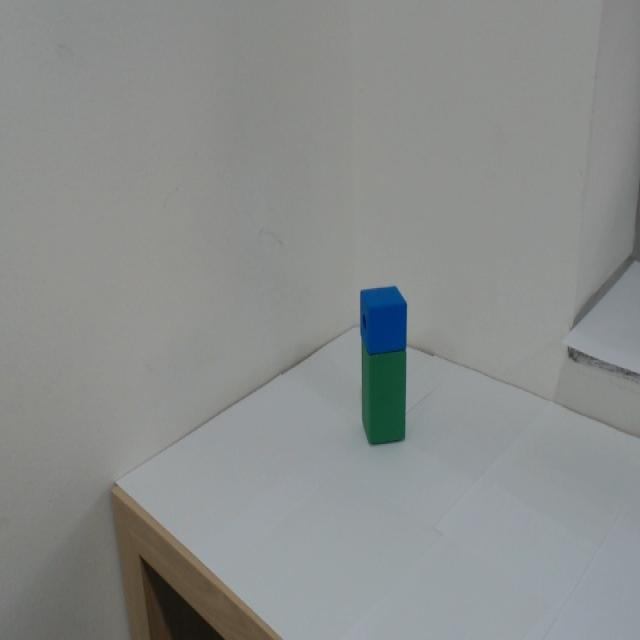cube: (351, 275, 425, 355)
